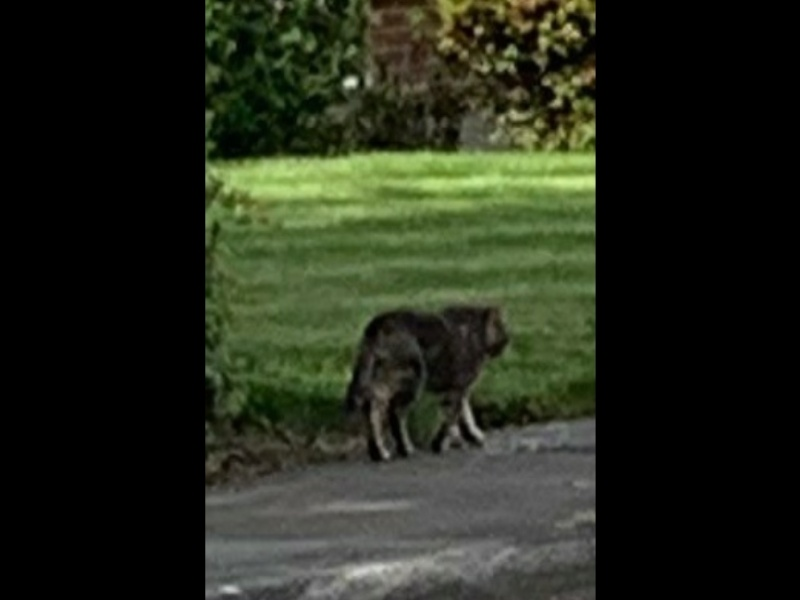cat: (343, 302, 511, 464)
